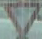Give way: (1, 2, 40, 38)
